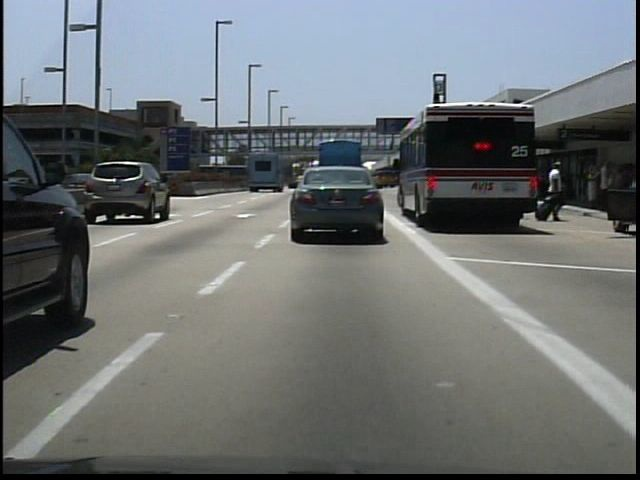person: (543, 159, 566, 224)
